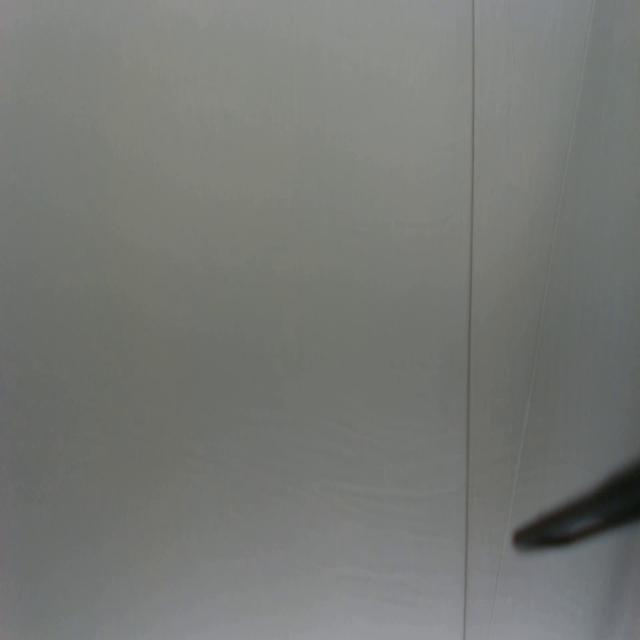crease: (516, 0, 597, 487), (461, 0, 478, 640)
